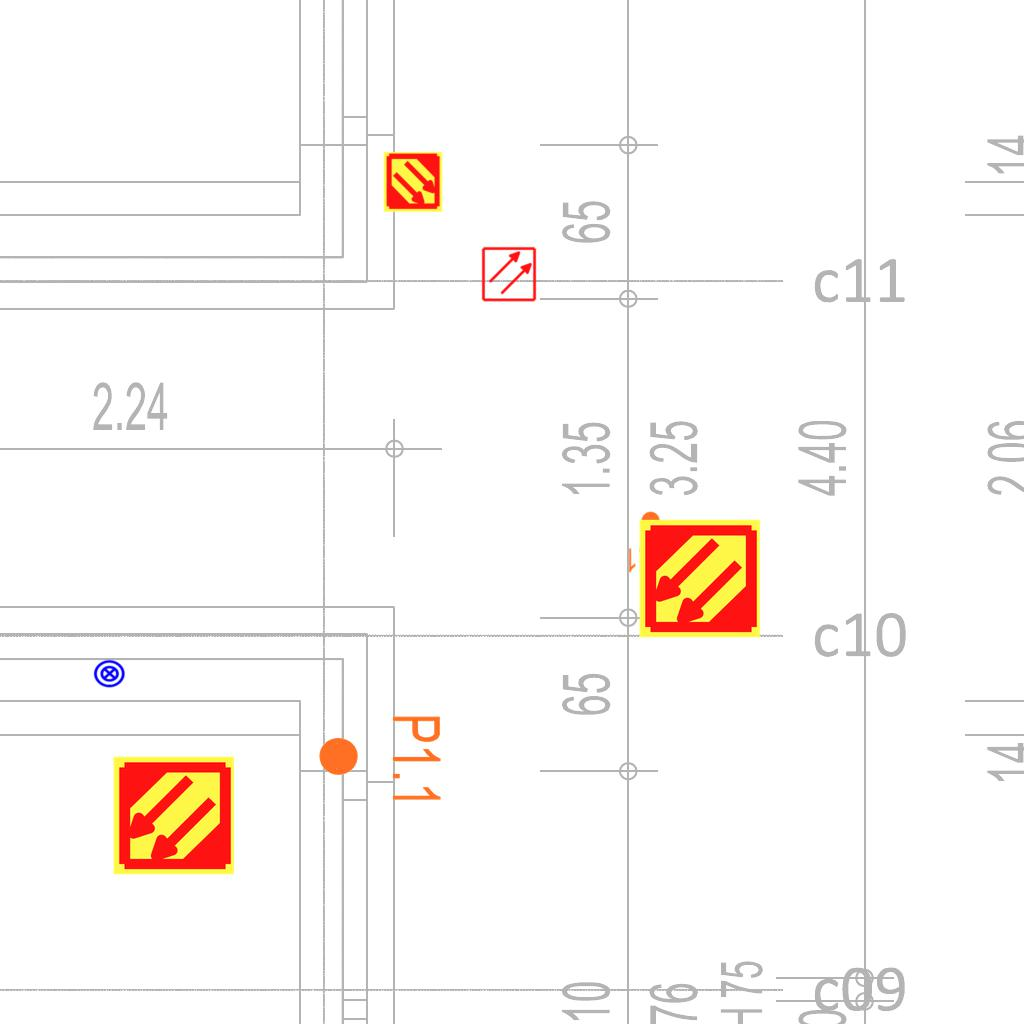ASR_Ansaugrauchmelder: (111, 753, 236, 878), (637, 516, 762, 641), (382, 151, 444, 213)
Downlight_LED_Einbauleuchten_Flur: (316, 713, 444, 806), (626, 510, 672, 574)
RMO_Rauchmelder_optischer: (481, 246, 537, 302)
Taster_beleuchtet: (93, 657, 126, 690)
